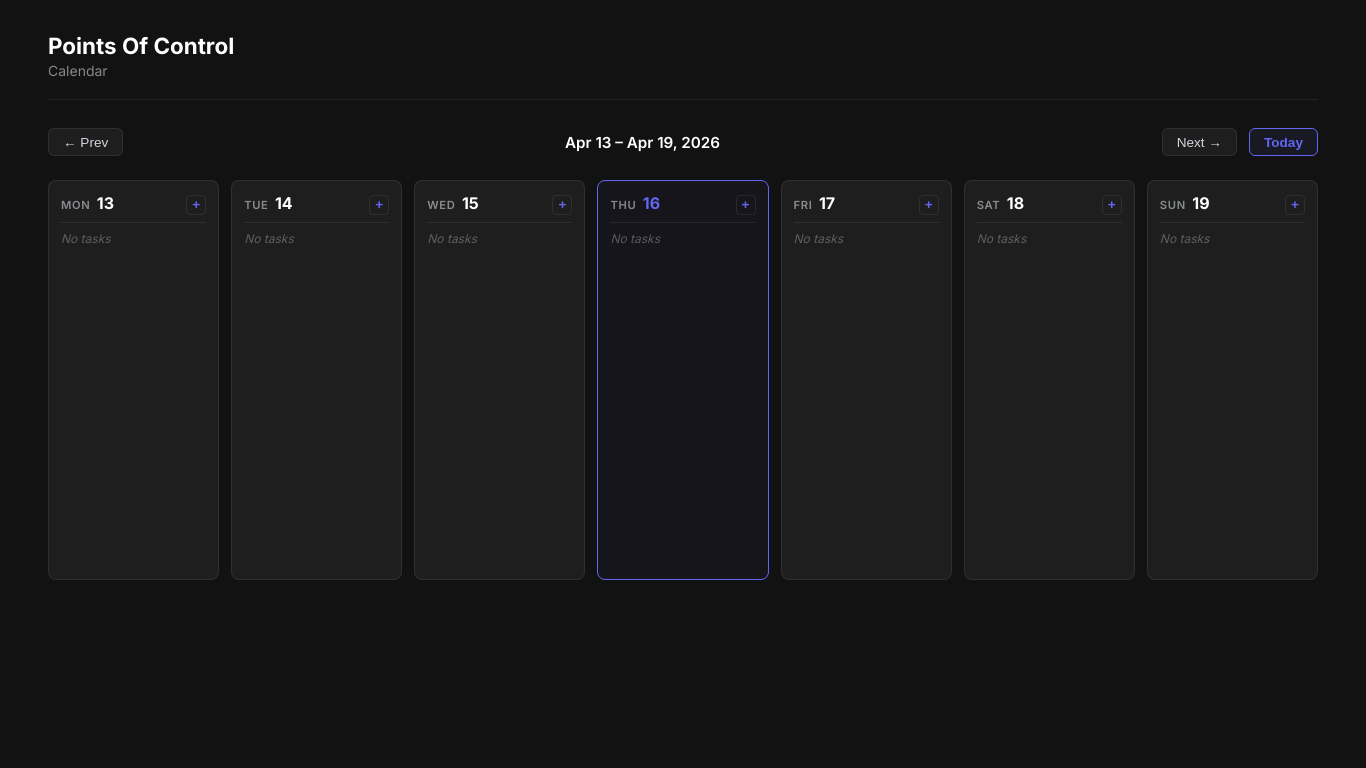
it: Calendar — task management (U10b) › opens the add task modal when "+" is clicked
Check: the text "Mon" is shown, box [61, 198, 90, 212]
What coordinates should you click on to do the following:
click the button titled "Add task" in the row of "Mon"
I would click on:
 (196, 205)
Its box is [186, 195, 206, 215].
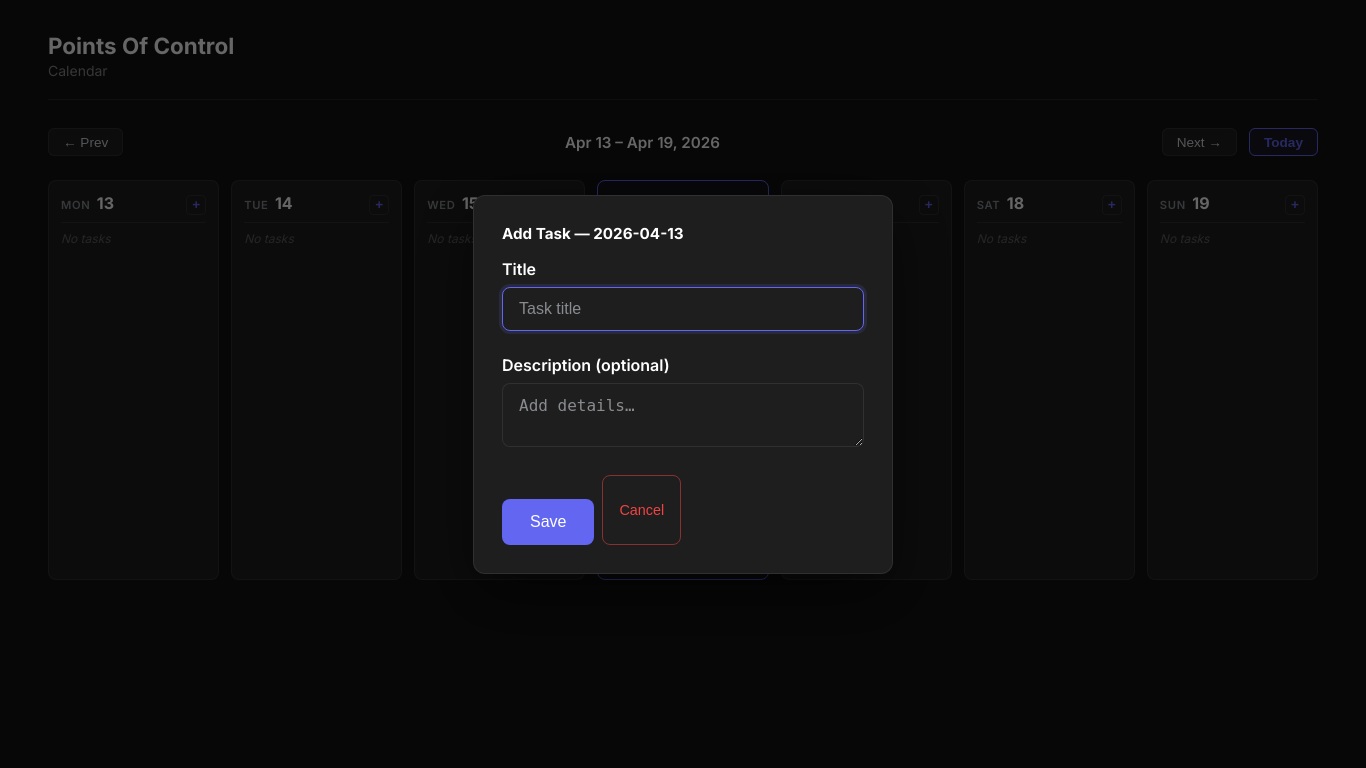
Check: the field with placeholder "Task title" is shown, box [502, 286, 864, 330]
Check: the button "Save" is shown, box [502, 498, 594, 544]
Check: the button "Cancel" is shown, box [602, 474, 681, 544]
